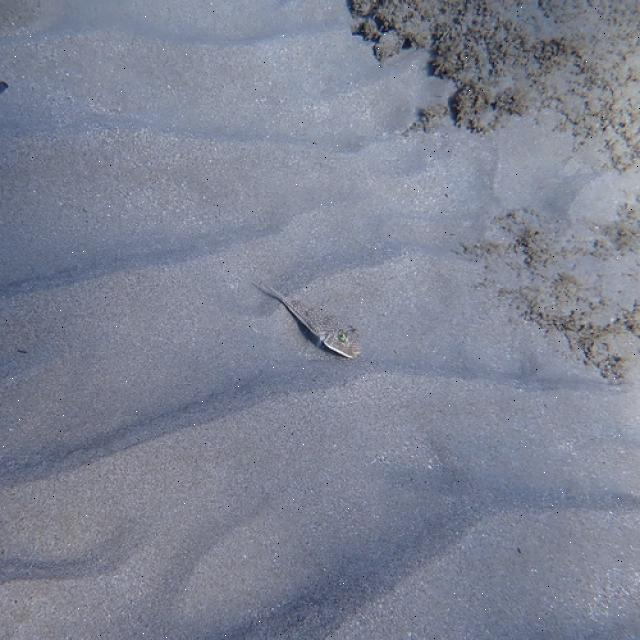Balik: (259, 283, 362, 358)
